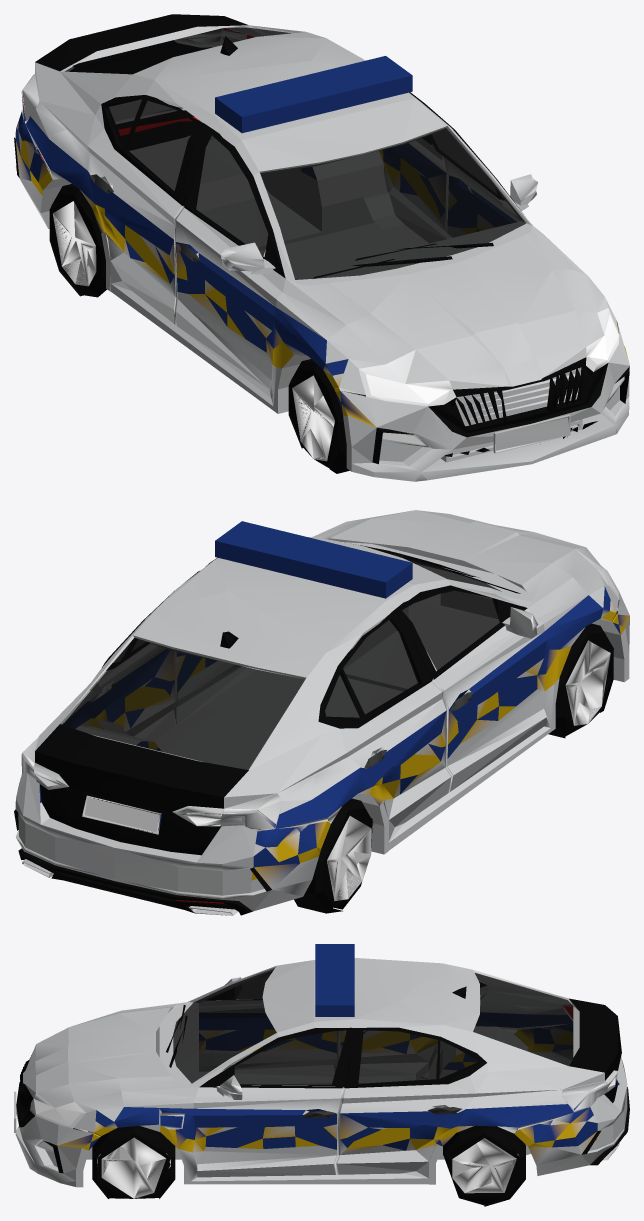
3 views of the same model, one above another, from view 1: azimuth 30°, elevation 25°; view 2: azimuth 150°, elevation 25°; view 3: azimuth 270°, elevation 25° (orthographic). The views are drawn at different scales.
Visible parts, largest first — view 1: body, glass, wheel_RL, wheel_FL; view 2: body, glass, wheel_FL, wheel_RL; view 3: body, glass, wheel_RR, wheel_FR.
Boxes of the visible parts, x1,y1,x2,y2 form: body: (14, 14, 629, 481); glass: (65, 27, 525, 279); wheel_RL: (49, 195, 106, 297); wheel_FL: (289, 369, 338, 468); body: (14, 510, 629, 915); glass: (63, 544, 501, 769); wheel_FL: (562, 632, 613, 736); wheel_RL: (323, 810, 372, 909); body: (14, 944, 629, 1206); glass: (173, 968, 573, 1085); wheel_RR: (443, 1133, 521, 1205); wheel_FR: (97, 1133, 170, 1198).
Bounding box in the file's own units: 2.02 × 1.55 × 4.69.
